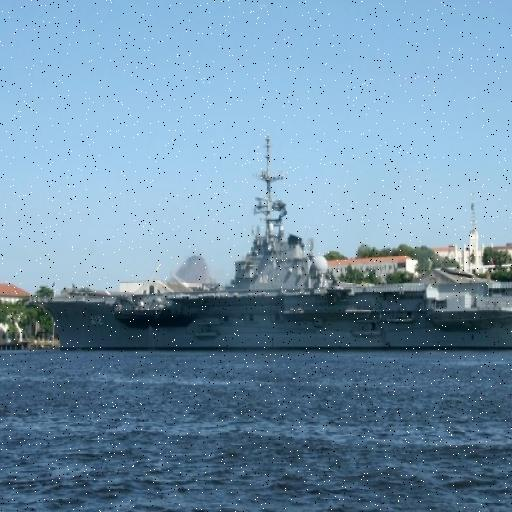Portanaves: (36, 127, 512, 355)
